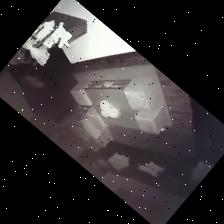person: (77, 105, 105, 142)
